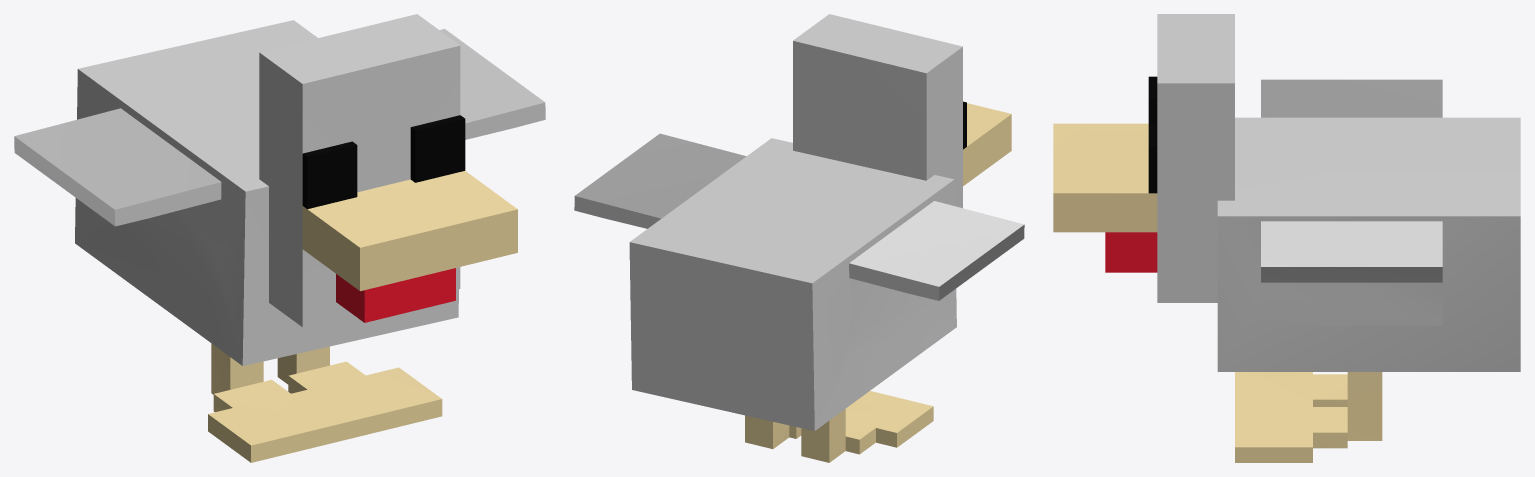
File: mc_chicken.glb
The picture shows the model from 3 angles, left to right: view 1: azimuth 30°, elevation 25°; view 2: azimuth 150°, elevation 25°; view 3: azimuth 270°, elevation 25°; orthographic projection. The views are drawn at different scales.
Visible parts, largest first — view 1: STL_file_2; view 2: STL_file_2; view 3: STL_file_2.
Boxes of the visible parts, x1,y1,x2,y2 form: STL_file_2: (14,14,545,462); STL_file_2: (574,14,1024,462); STL_file_2: (1053,14,1520,462).
Size of the model in its own units: 0.194 by 0.1758 by 0.2019.
